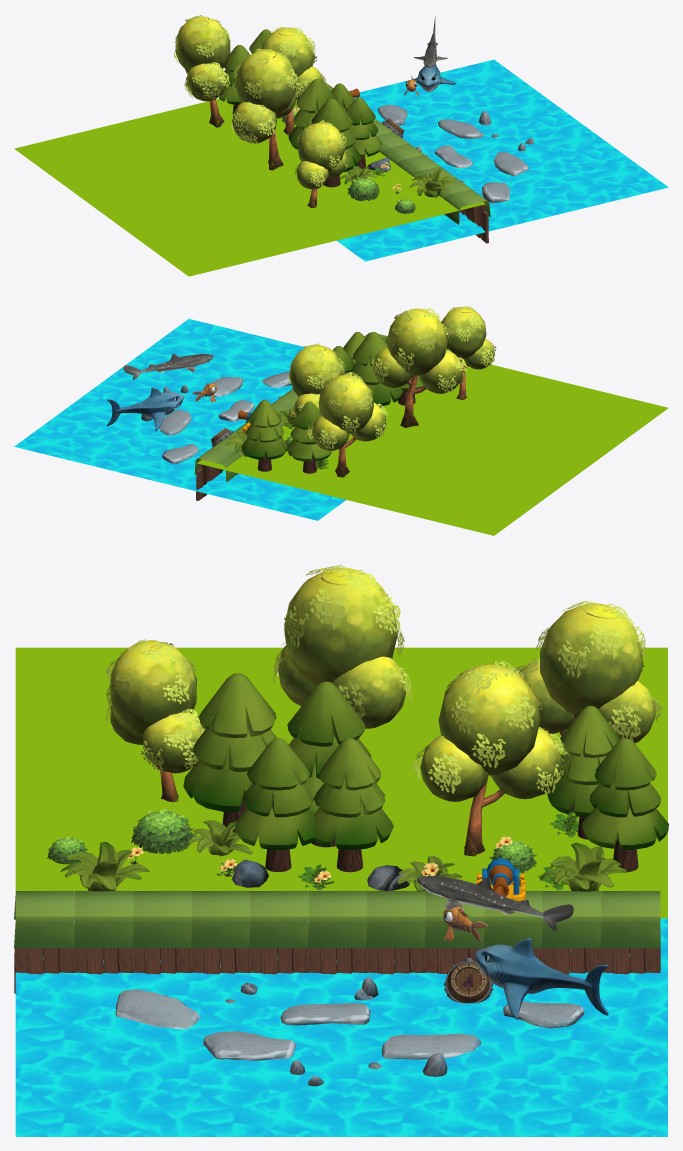
Rendered from level01assets.fbx.
3 views of the same model, one above another, from view 1: azimuth 30°, elevation 25°; view 2: azimuth 150°, elevation 25°; view 3: azimuth 270°, elevation 25° (orthographic). The views are drawn at different scales.
Visible parts, largest first — view 1: pPlane1, pPlane2, May_holiday:Mesh, polySurface3, polySurface6, polySurface5, GRASS_BLOCK9, polySurface8, Plant_2.002, stylized bush, stones:pCube2, Shark1 (+7 smaller); view 2: pPlane1, pPlane2, May_holiday:Mesh, polySurface7, polySurface8, polySurface5, Shark1, GRASS_BLOCK19, Fish, stones:pCube2, stones:pCube5, stones:pCube3 (+1 smaller); view 3: pPlane2, pPlane1, May_holiday:Mesh, polySurface6, polySurface7, polySurface4, polySurface3, GRASS_BLOCK9, GRASS_BLOCK19, GRASS_BLOCK15, GRASS_BLOCK10, GRASS_BLOCK14 (+23 smaller).
Part boxes in pixels (x1=…): pPlane1: x1=14, y1=97, x2=485, y2=276; pPlane2: x1=337, y1=59, x2=668, y2=261; May_holiday:Mesh: x1=174, y1=15, x2=348, y2=207; polySurface3: x1=345, y1=97, x2=381, y2=168; polySurface6: x1=311, y1=98, x2=360, y2=187; polySurface5: x1=288, y1=78, x2=337, y2=149; GRASS_BLOCK9: x1=444, y1=189, x2=490, y2=243; polySurface8: x1=219, y1=45, x2=249, y2=114; Plant_2.002: x1=409, y1=168, x2=455, y2=197; stylized bush: x1=347, y1=177, x2=379, y2=201; stones:pCube2: x1=438, y1=119, x2=483, y2=138; Shark1: x1=405, y1=64, x2=455, y2=92; pPlane1: x1=197, y1=359, x2=668, y2=535; pPlane2: x1=14, y1=319, x2=345, y2=520; May_holiday:Mesh: x1=288, y1=306, x2=496, y2=477; polySurface7: x1=241, y1=400, x2=287, y2=471; polySurface8: x1=287, y1=402, x2=331, y2=473; polySurface5: x1=351, y1=332, x2=402, y2=407; Shark1: x1=106, y1=387, x2=184, y2=431; GRASS_BLOCK19: x1=194, y1=447, x2=240, y2=500; Fish: x1=123, y1=353, x2=213, y2=379; stones:pCube2: x1=160, y1=409, x2=191, y2=435; stones:pCube5: x1=162, y1=444, x2=198, y2=463; stones:pCube3: x1=205, y1=377, x2=242, y2=396; pPlane2: x1=15, y1=918, x2=667, y2=1136; pPlane1: x1=15, y1=647, x2=667, y2=918; May_holiday:Mesh: x1=105, y1=564, x2=662, y2=856; polySurface6: x1=183, y1=673, x2=277, y2=832; polySurface7: x1=582, y1=738, x2=668, y2=872; polySurface4: x1=314, y1=738, x2=393, y2=872; polySurface3: x1=235, y1=738, x2=314, y2=871; GRASS_BLOCK9: x1=14, y1=891, x2=74, y2=993; GRASS_BLOCK19: x1=600, y1=891, x2=660, y2=974; GRASS_BLOCK15: x1=308, y1=891, x2=367, y2=974; GRASS_BLOCK10: x1=74, y1=891, x2=133, y2=974; GRASS_BLOCK14: x1=366, y1=891, x2=425, y2=974.
Bounding box in the file's own units: 114 × 36.56 × 72.01.
